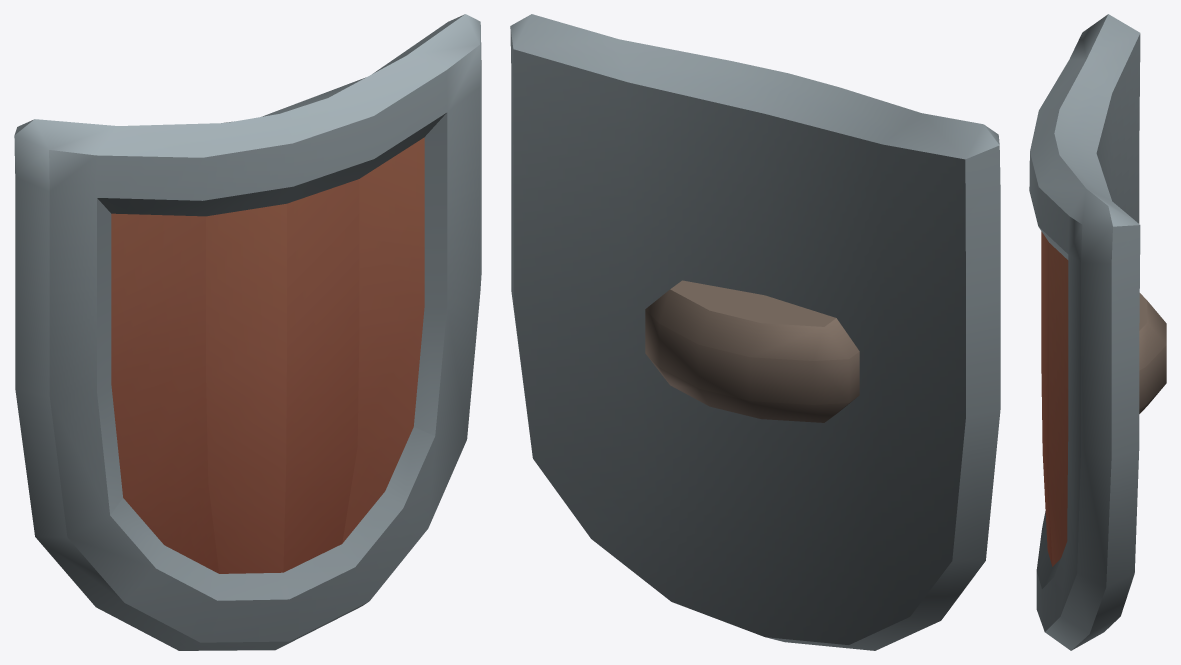
Rendered from shield_badge.glb.
3 renders of one model, left to right at view 1: azimuth 30°, elevation 25°; view 2: azimuth 150°, elevation 25°; view 3: azimuth 270°, elevation 25°, orthographic. The views are drawn at different scales.
Visible parts, largest first — view 1: shield_badge; view 2: shield_badge; view 3: shield_badge.
Boxes of the visible parts, box(x1,y1,x2,y2) form: shield_badge: box(14, 14, 481, 650); shield_badge: box(510, 14, 1000, 650); shield_badge: box(1029, 14, 1166, 650).
Bounding box in the file's own units: 0.8826 × 1.02 × 0.2459.
Materials: 1 (1 with a texture image).
